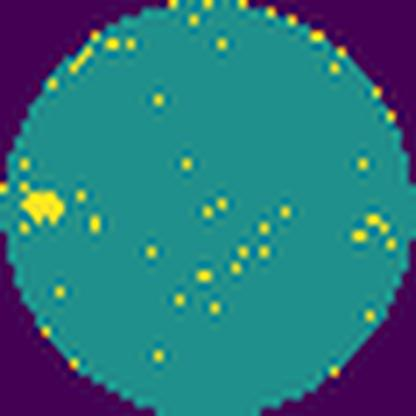Loc: (20, 190, 66, 224)
